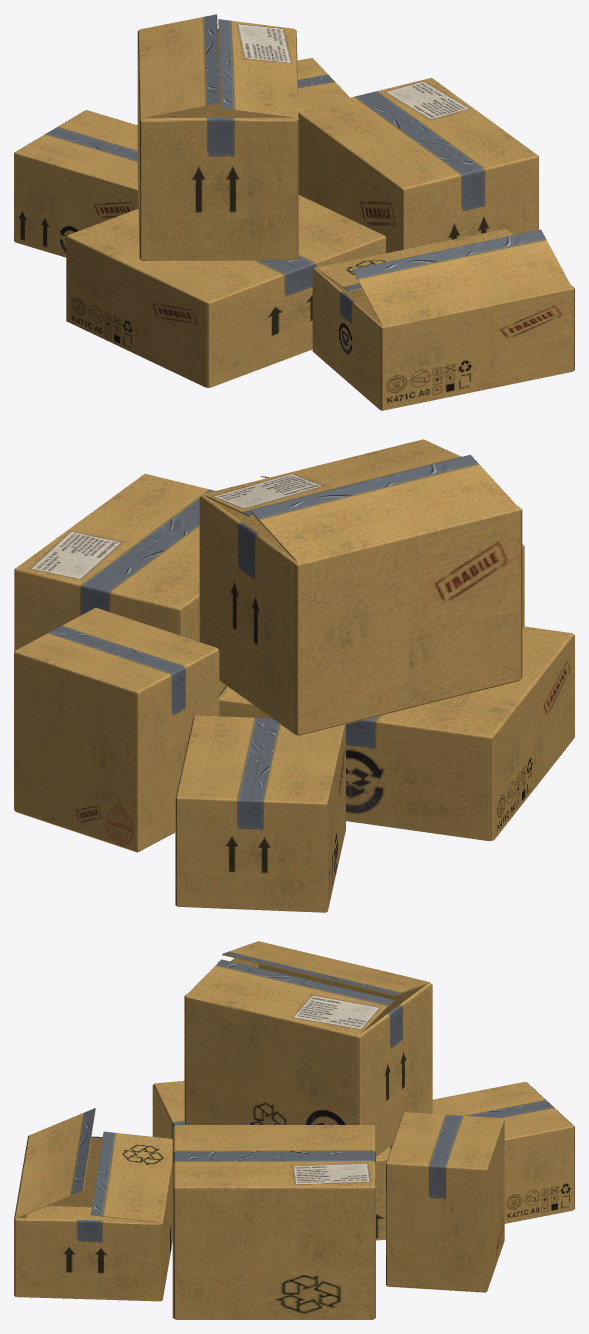
File: cardboard_boxes_pile_01.fbx
The picture shows the model from 3 angles, top to bottom: view 1: azimuth 30°, elevation 25°; view 2: azimuth 150°, elevation 25°; view 3: azimuth 270°, elevation 25°; orthographic projection. The views are drawn at different scales.
Parts seen in each view (by area): view 1: cardboard_boxes_pile_01; view 2: cardboard_boxes_pile_01; view 3: cardboard_boxes_pile_01.
Part boxes in pixels (box(x1,y1,x2,y2)): cardboard_boxes_pile_01: box(14, 14, 574, 410); cardboard_boxes_pile_01: box(14, 439, 574, 912); cardboard_boxes_pile_01: box(14, 941, 574, 1319).
Size of the model in its own units: 199 by 124 by 271.
